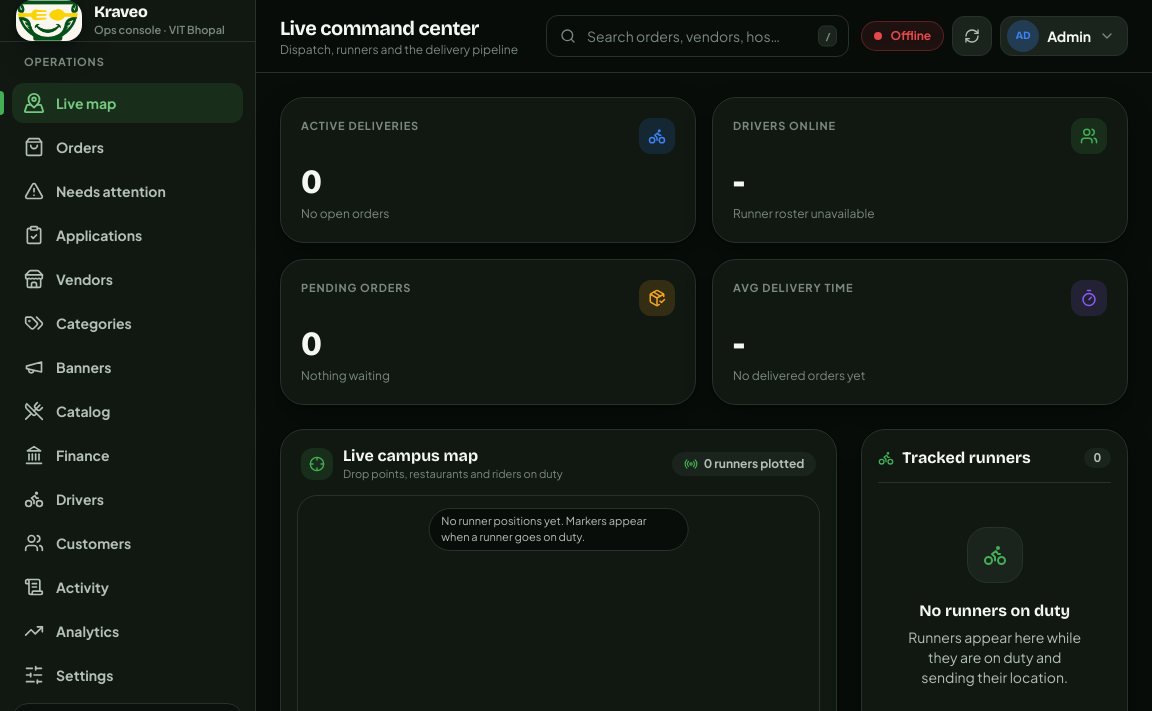
Test: opening a restaurant without an owner › if the server still refuses (409 NO_OWNER, e.g. the owner was detached in another tab) its message is shown as a message and the switch goes back
Click the button "Vendors" at (128, 278), box [12,258,243,298]
(page scrolled)
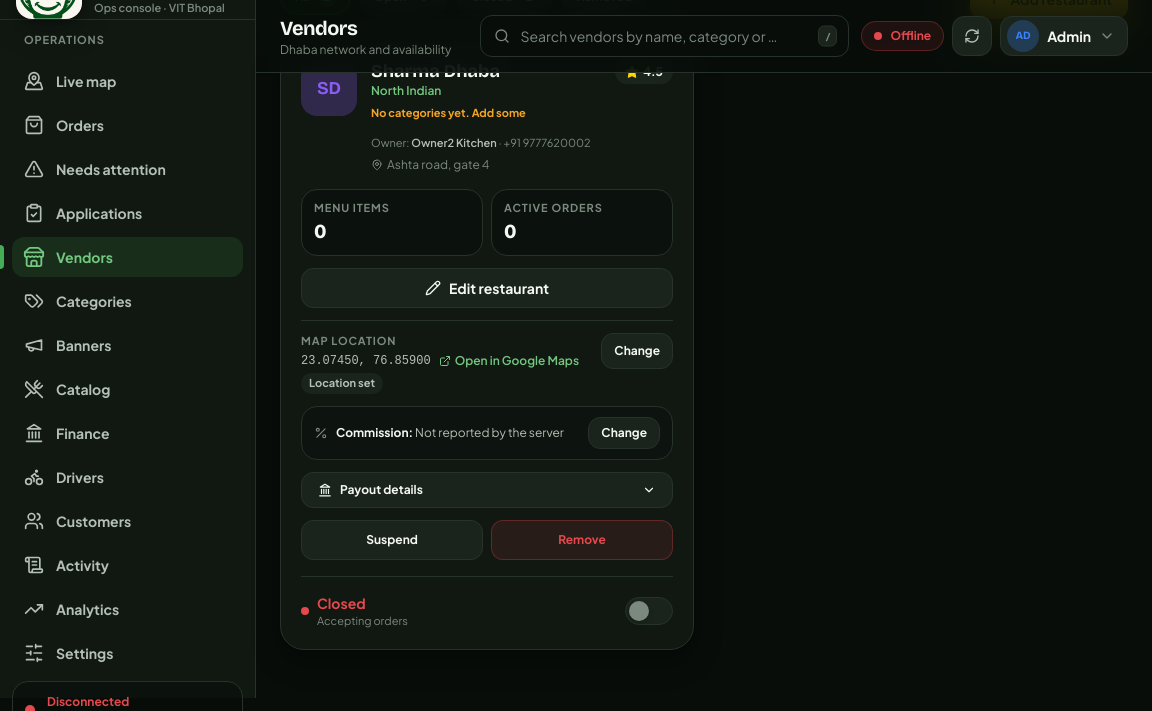
Click the switch named "Sharma Dhaba: accepting orders" at (649, 611), box [625,597,673,625]
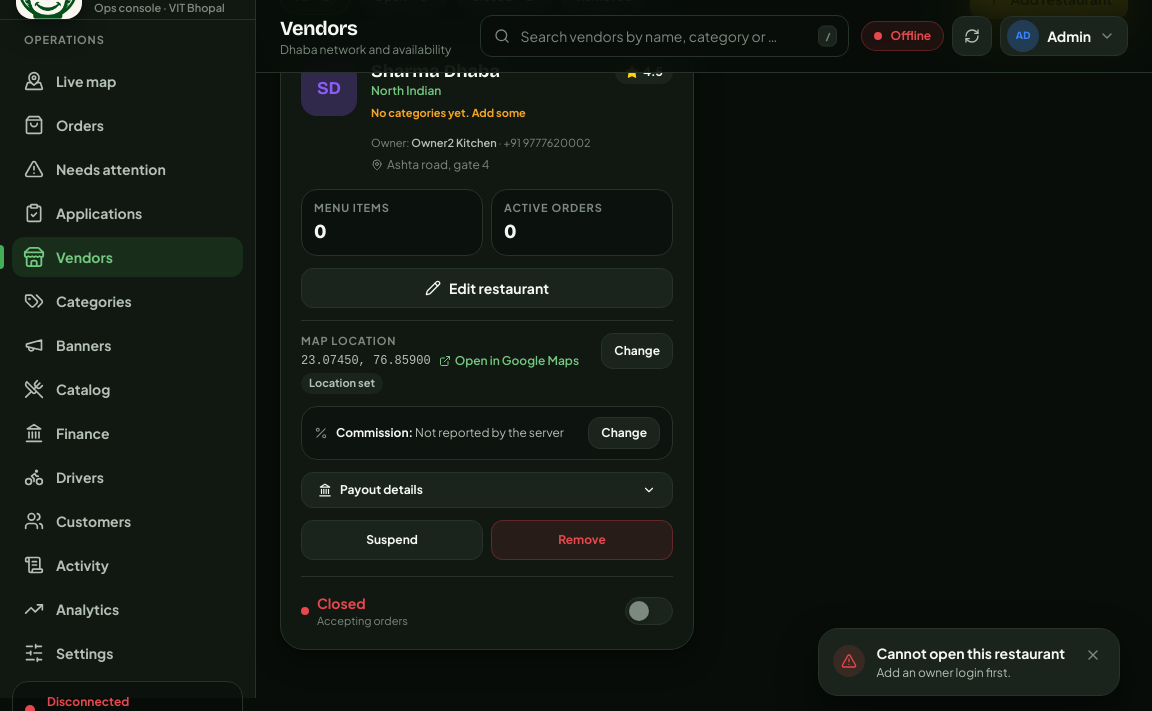
Now the text "Cannot open this restaurant" is shown, box [876,643,1065,663]
Now the text "Add an owner login first." is shown, box [876,665,1011,680]
